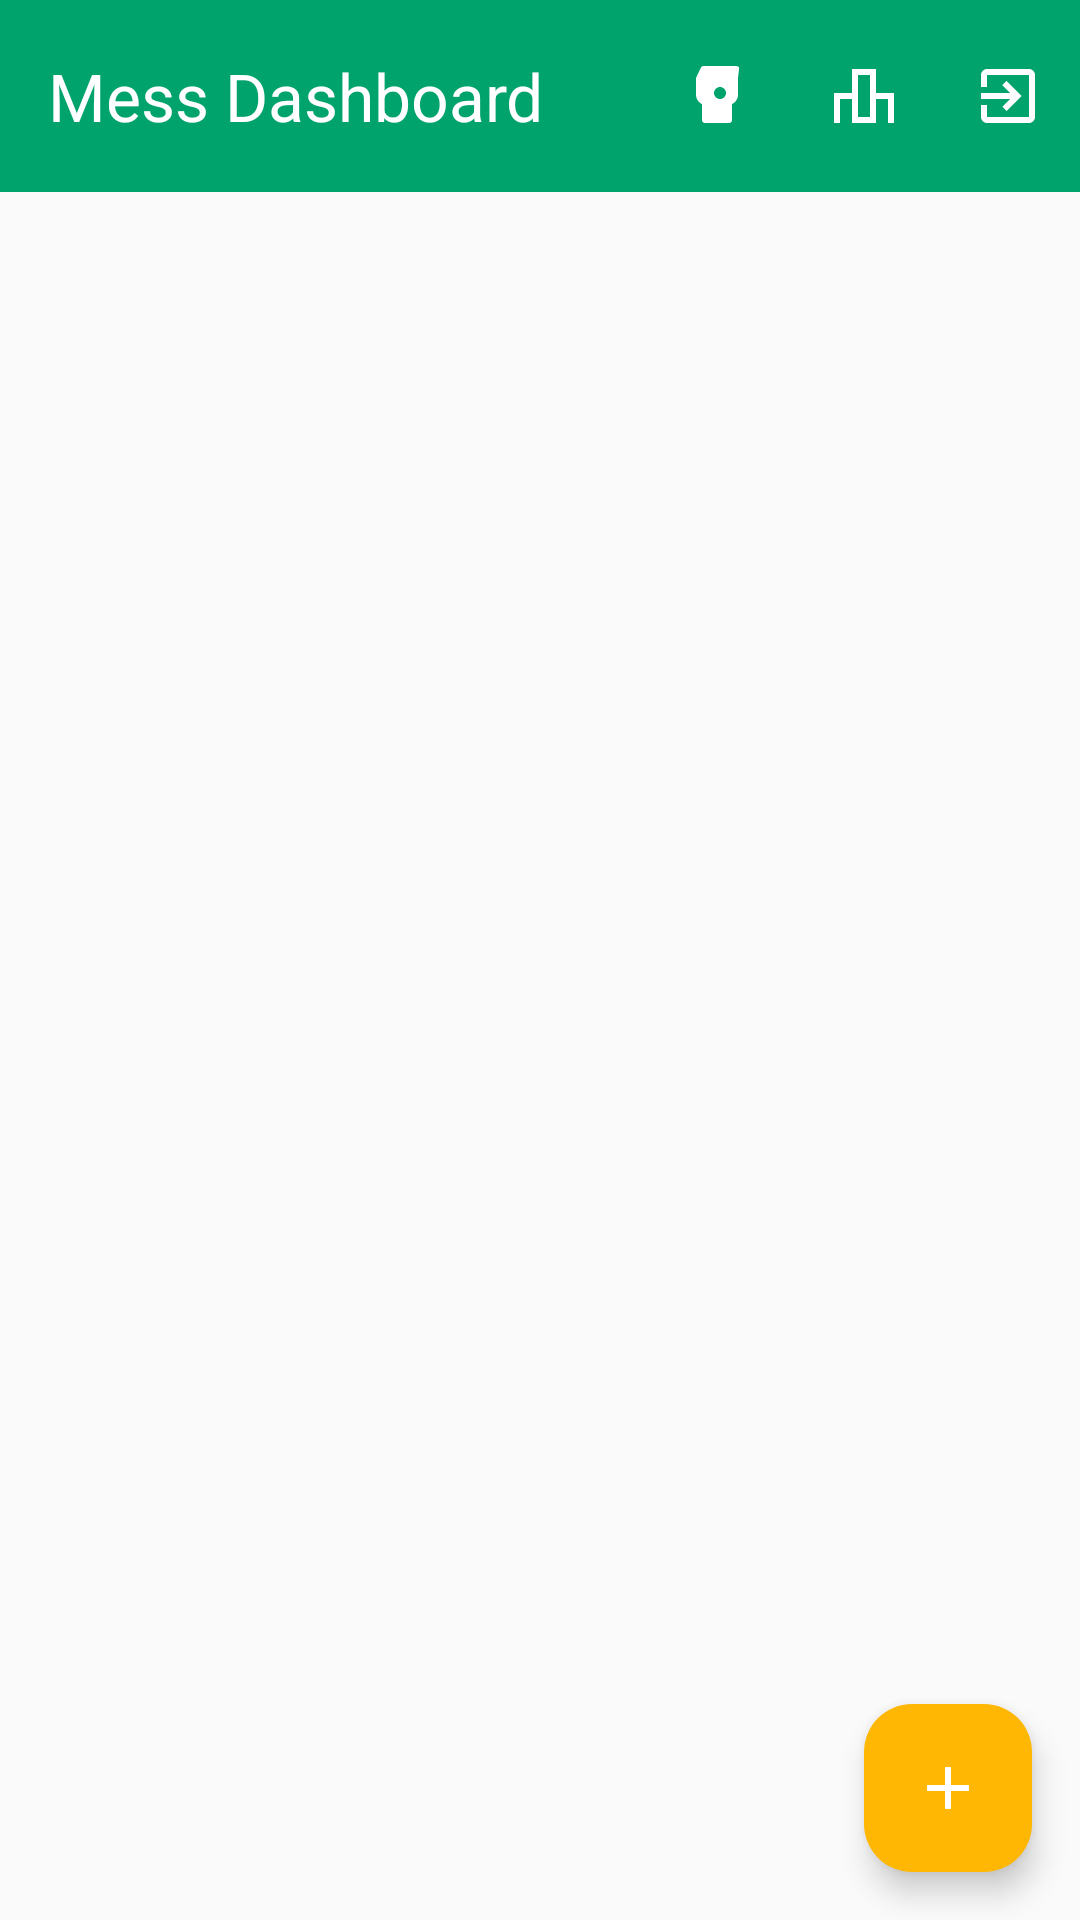

Icon click points for this 1080x1920 phone screenshot, format [x,y]:
Add Food: [948,1788]
